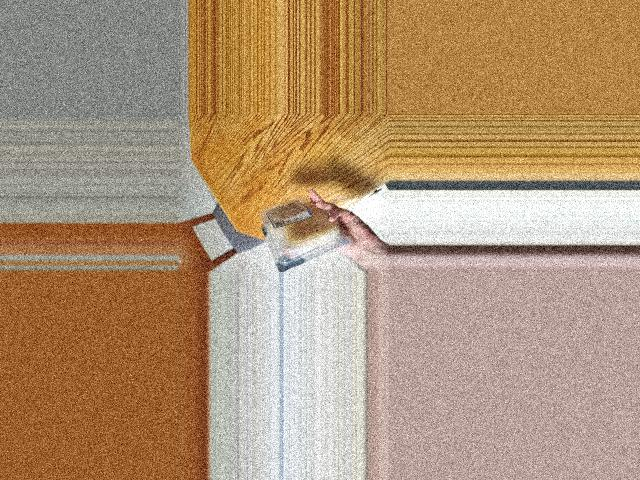cheese: (261, 199, 340, 266)
